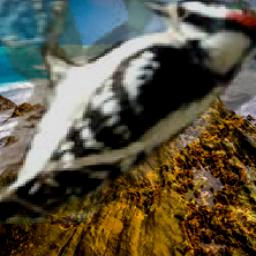Woodpecker: (0, 0, 256, 224)
